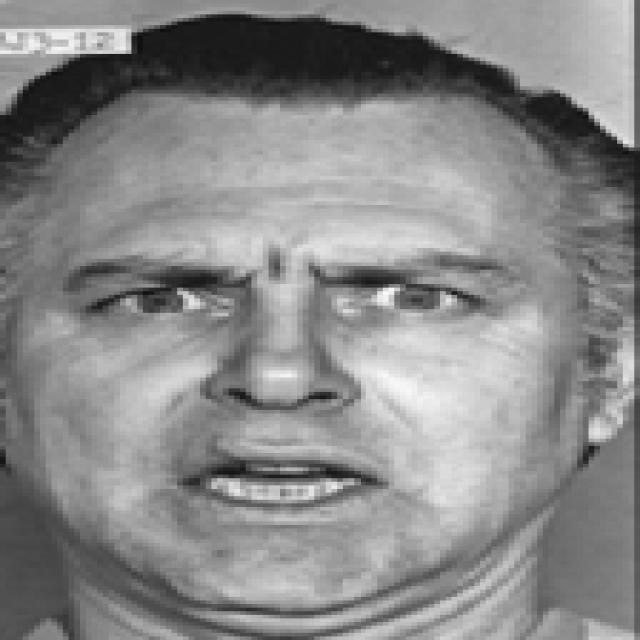angry: (48, 244, 497, 576)
